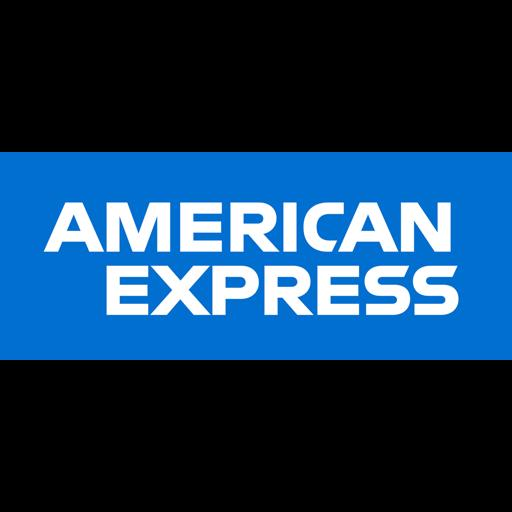American Express: (0, 152, 512, 360)
